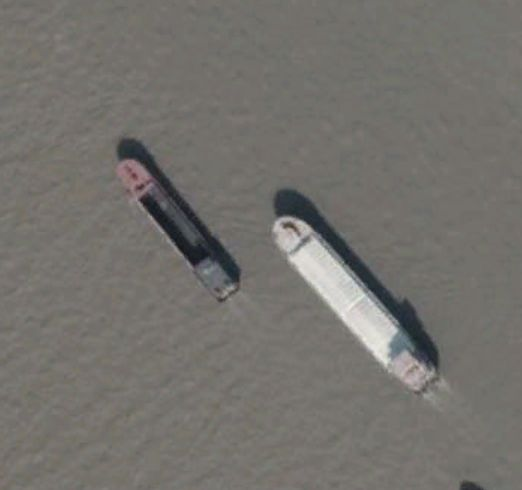boat: (269, 212, 441, 400), (112, 157, 242, 306)
